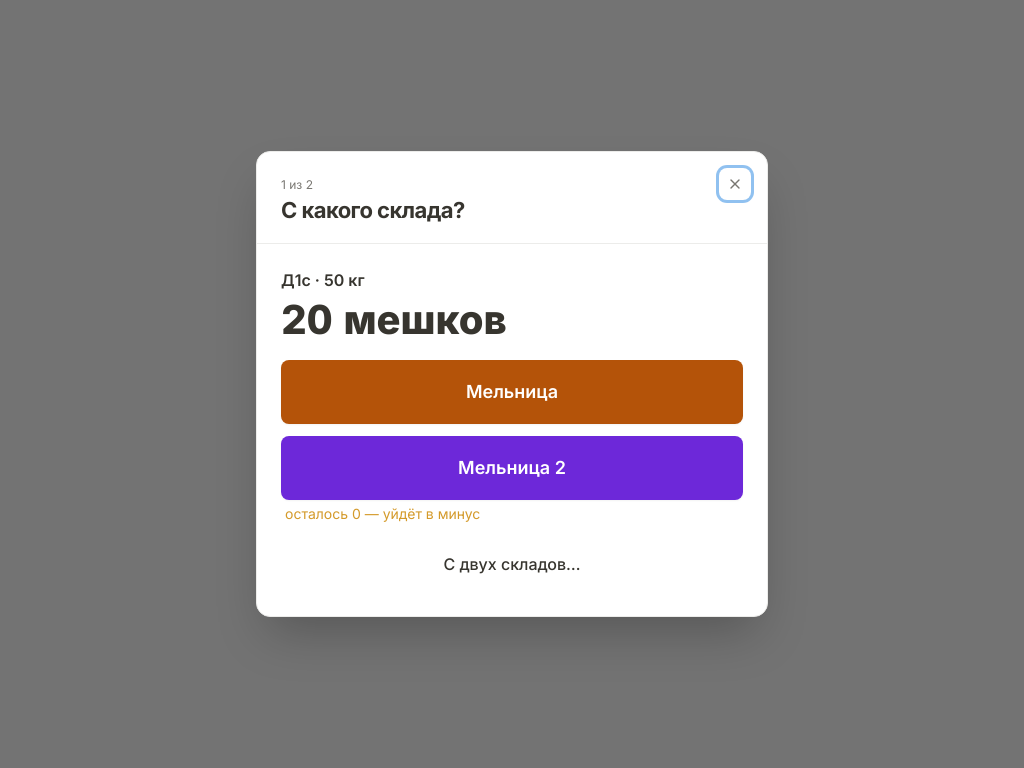
it: ShipmentSourcesSheet › показывает нехватку только у склада, где мешков меньше, чем в заказе
expect the text "осталось 0 — уйдёт в минус" is shown once: met, box [285,505,480,522]
Click the button "Мельница".
click(512, 392)  # box [281,360,743,424]
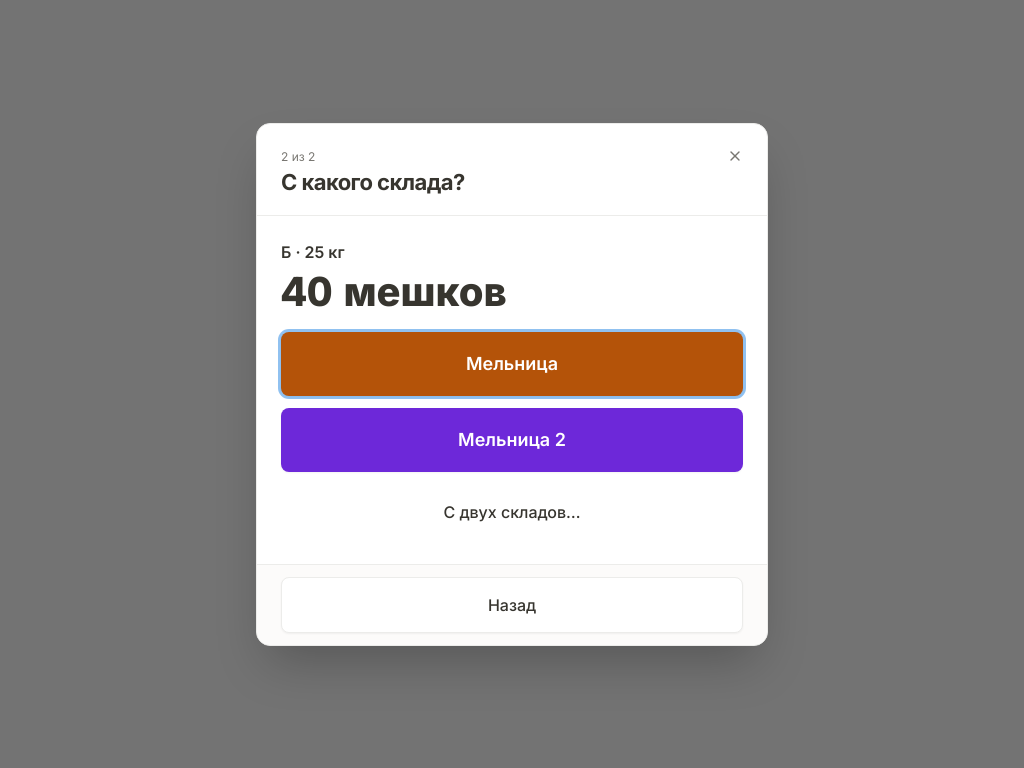
expect the text "Б · 25 кг" is shown: met, box [281,242,345,262]
expect the text "уйдёт в минус" is gone: met
